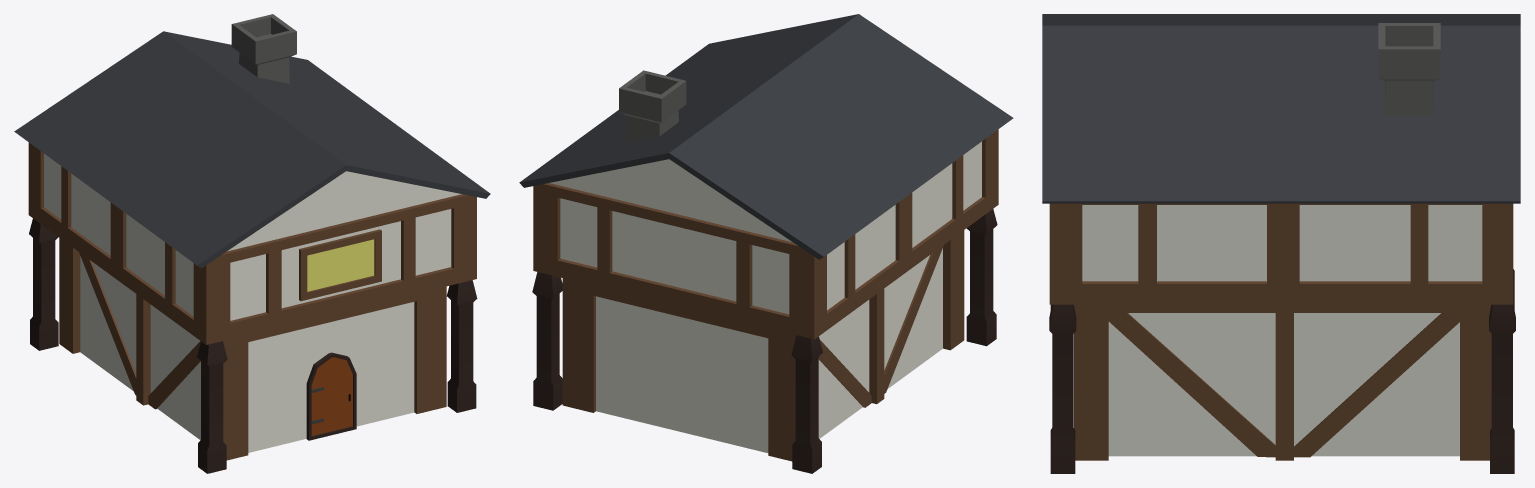
Rendered from building_B.fbx.
3 views of the same model, side by side, from view 1: azimuth 30°, elevation 25°; view 2: azimuth 150°, elevation 25°; view 3: azimuth 270°, elevation 25° (orthographic). The views are drawn at different scales.
Visible parts, largest first — view 1: roof, floor_1st, floorwood_2nd, floor_2nd, floorwood_1st, window, door, chimney, column3, column1, column2, wood4 (+1 smaller); view 2: roof, floor_1st, floor_2nd, floorwood_2nd, floorwood_1st, chimney, column2, column4, column1, wood3, wood4; view 3: roof, floor_1st, floor_2nd, floorwood_2nd, floorwood_1st, chimney, wood1, wood2, column3, column4.
Part boxes in pixels (x1,y1,x2,y2): roof: (14, 31, 490, 268); floor_1st: (80, 256, 414, 452); floorwood_2nd: (28, 142, 476, 344); floor_2nd: (44, 154, 461, 320); floorwood_1st: (59, 238, 446, 460); window: (299, 229, 381, 301); door: (306, 352, 356, 440); chimney: (231, 14, 296, 83); column3: (447, 280, 477, 412); column1: (197, 341, 227, 473); column2: (29, 218, 58, 350); wood4: (79, 252, 136, 395); roof: (519, 14, 1013, 259); floor_1st: (596, 248, 942, 452); floor_2nd: (550, 141, 981, 314); floorwood_2nd: (533, 129, 998, 339); floorwood_1st: (562, 230, 964, 461); chimney: (619, 70, 686, 142); column2: (791, 335, 822, 473); column4: (532, 272, 562, 410); column1: (966, 209, 997, 346); wood3: (884, 245, 943, 393); wood4: (818, 339, 871, 407); roof: (1042, 14, 1520, 203); floor_1st: (1108, 313, 1459, 456); floor_2nd: (1082, 205, 1482, 281); floorwood_2nd: (1049, 203, 1513, 304); floorwood_1st: (1074, 304, 1491, 460); chimney: (1378, 23, 1440, 116); wood1: (1108, 313, 1275, 457); wood2: (1294, 313, 1459, 457); column3: (1049, 304, 1076, 473); column4: (1489, 304, 1515, 473).
Bounding box in the file's own units: 13.73 × 13.34 × 14.81.
